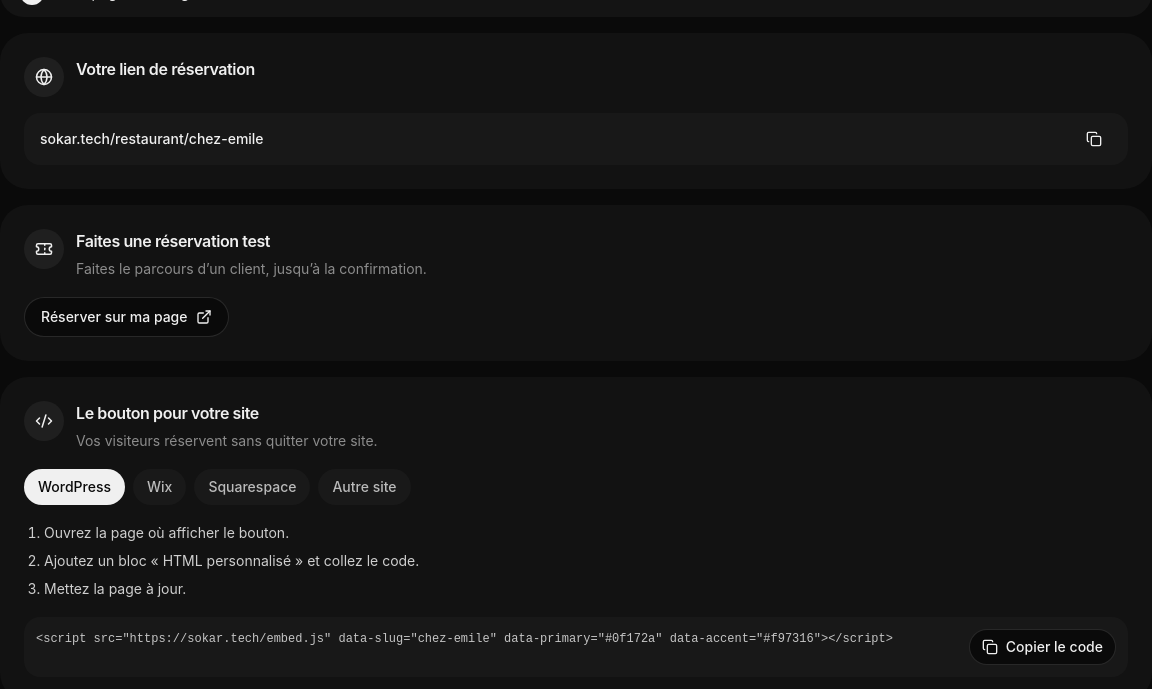
Test: adapte le guide d’installation à l’outil du site
Expected: the list item "Ajoutez un bloc « HTML personnalisé » et collez le code." is shown, [44,552,419,569]
Click the button "Wix" at (160, 487), box [133,469,186,505]
(page scrolled)
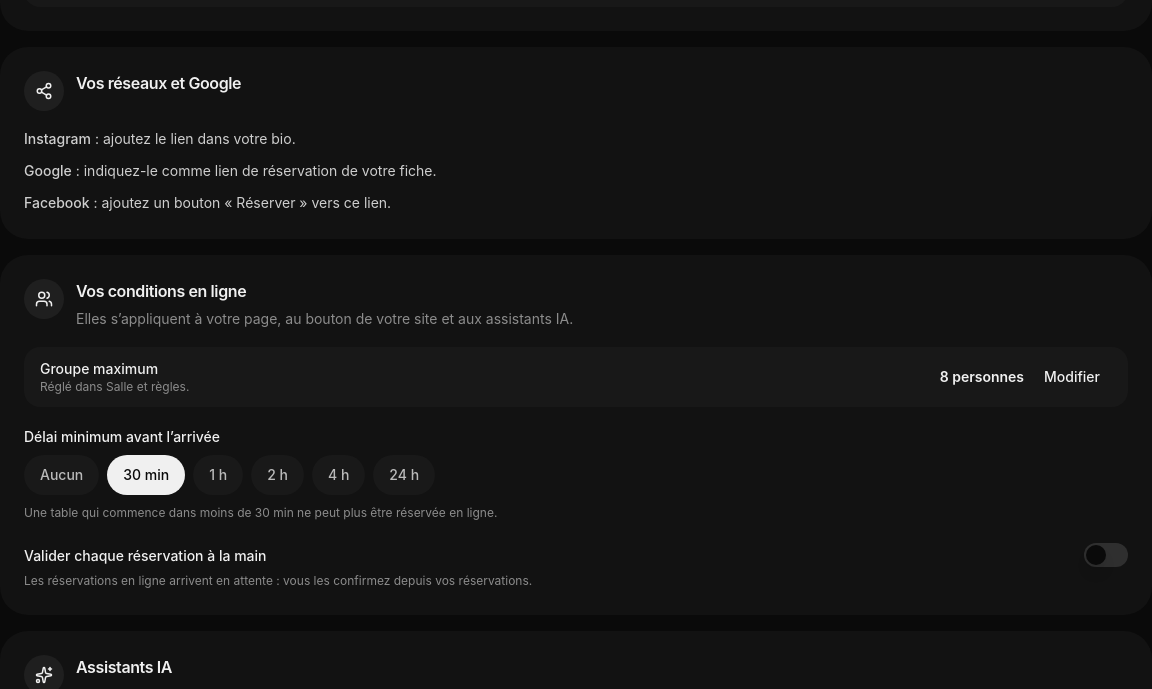
Now the text "8 personnes" is shown, box [940,367,1024,387]
